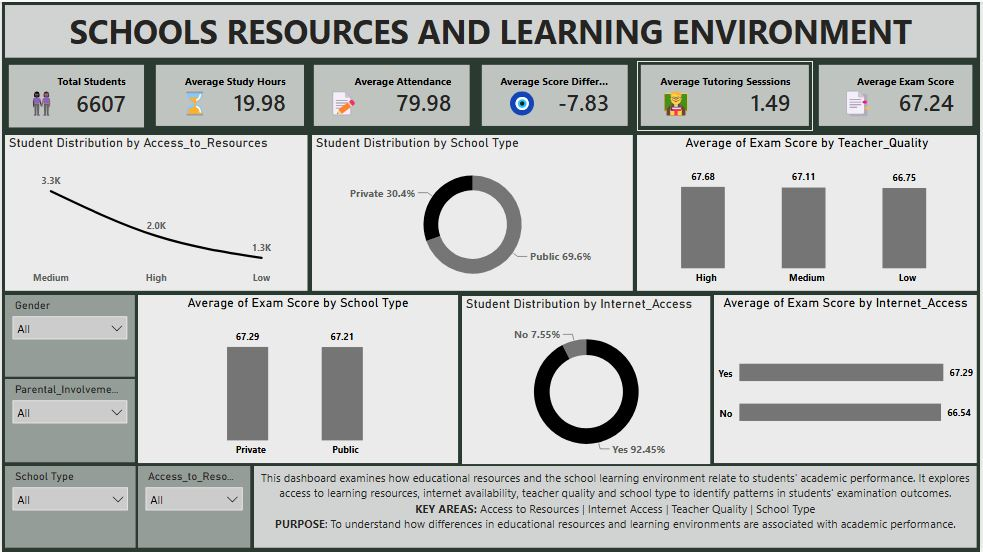

Layout of this report page (visuals, bound fields, positions):
{"tool":"powerbi","page":{"name":"School Resources and Learning Environment","canvas":[1280,720],"ordinal":2},"visuals":[{"type":"textbox","box":[4.3,4.3,1271.5,69.1],"z":0},{"type":"cardVisual","fields":{"Data":["Student's Performance Measure.Total Students"]},"box":[4.3,77.8,187.2,92.2],"z":1000},{"type":"cardVisual","fields":{"Data":["Student's Performance Measure.Average Study Hours"]},"box":[195.8,77.8,204.5,90.7],"z":2000},{"type":"cardVisual","fields":{"Data":["Student's Performance Measure.Average Attendance"]},"box":[403.2,77.8,214.6,90.7],"z":3000},{"type":"cardVisual","fields":{"Data":["Student's Performance Measure.Average Tutoring Sesssions"]},"box":[830.9,77.8,230.4,90.7],"z":4000},{"type":"cardVisual","fields":{"Data":["Student's Performance Measure.Average Exam Score"]},"box":[1064.2,77.8,211.7,90.7],"z":5000},{"type":"cardVisual","fields":{"Data":["Student's Performance Measure.Average Score Difference"]},"box":[623.5,77.8,201.6,90.7],"z":6000},{"type":"lineChart","title":"Student Distribution by Access_to_Resources","fields":{"Category":["Student Performance Factors.Access_to_Resources"],"Y":["Student's Performance Measure.Total Students"]},"box":[4.3,174.2,396,204.5],"z":7000},{"type":"donutChart","title":"Student Distribution by Internet_Access","fields":{"Category":["Student Performance Factors.Internet_Access"],"Y":["Student's Performance Measure.Total Students"]},"box":[601.9,384.5,325.4,220.3],"z":8000},{"type":"clusteredBarChart","fields":{"Category":["Student Performance Factors.Internet_Access"],"Y":["Avg(Student Performance Factors.Exam Score)"]},"box":[931.7,383,344.2,220.3],"z":9000},{"type":"clusteredColumnChart","fields":{"Y":["Avg(Student Performance Factors.Exam_Score)"],"Category":["Student Performance Factors.Teacher_Quality"]},"box":[830.9,174.2,445,204.5],"z":10000},{"type":"donutChart","title":"Student Distribution by School Type","fields":{"Category":["Student Performance Factors.School Type"],"Y":["Student's Performance Measure.Total Students"]},"box":[406.1,174.2,420.5,204.5],"z":11000},{"type":"clusteredColumnChart","fields":{"Category":["Student Performance Factors.School Type"],"Y":["Avg(Student Performance Factors.Exam_Score)"]},"box":[178.6,383,419,220.3],"z":12000},{"type":"slicer","fields":{"Values":["Student Performance Factors.Gender"]},"box":[4.3,383,169.9,106.6],"z":13000},{"type":"slicer","fields":{"Values":["Student Performance Factors.School_Type"]},"box":[4.3,607.7,171.4,106.6],"z":14000},{"type":"slicer","fields":{"Values":["Student Performance Factors.Parental_Involvement"]},"box":[4.3,493.9,169.9,109.4],"z":15000},{"type":"slicer","fields":{"Values":["Student Performance Factors.Access_to_Resources"]},"box":[178.6,607.7,146.9,106.6],"z":16000},{"type":"textbox","box":[329.8,607.7,946.1,106.6],"z":17000},{"type":"textbox","box":[1090.1,103.7,60.5,57.6],"z":18000},{"type":"textbox","box":[852.5,103.7,60.5,57.6],"z":19000},{"type":"textbox","box":[650.9,103.7,60.5,57.6],"z":20000},{"type":"textbox","box":[417.6,103.7,54.7,57.6],"z":21000},{"type":"textbox","box":[224.6,103.7,54.7,57.6],"z":22000},{"type":"textbox","box":[24.5,103.7,54.7,57.6],"z":23000}]}

Visuals, with their boxes in screenshot pixels (x1, y1, x2, y2), scaled from the page's 1280x720 canvas onto the 983x552 screenshot:
textbox: 3 3 980 56
cardVisual - Student's Performance Measure.Total Students: 3 60 147 130
cardVisual - Student's Performance Measure.Average Study Hours: 150 60 307 129
cardVisual - Student's Performance Measure.Average Attendance: 310 60 474 129
cardVisual - Student's Performance Measure.Average Tutoring Sesssions: 638 60 815 129
cardVisual - Student's Performance Measure.Average Exam Score: 817 60 980 129
cardVisual - Student's Performance Measure.Average Score Difference: 479 60 634 129
"Student Distribution by Access_to_Resources" lineChart: 3 134 307 290
"Student Distribution by Internet_Access" donutChart: 462 295 712 464
clusteredBarChart - Student Performance Factors.Internet_Access x Avg(Student Performance Factors.Exam Score): 716 294 980 463
clusteredColumnChart - Avg(Student Performance Factors.Exam_Score) x Student Performance Factors.Teacher_Quality: 638 134 980 290
"Student Distribution by School Type" donutChart: 312 134 635 290
clusteredColumnChart - Student Performance Factors.School Type x Avg(Student Performance Factors.Exam_Score): 137 294 459 463
slicer - Student Performance Factors.Gender: 3 294 134 375
slicer - Student Performance Factors.School_Type: 3 466 135 548
slicer - Student Performance Factors.Parental_Involvement: 3 379 134 463
slicer - Student Performance Factors.Access_to_Resources: 137 466 250 548
textbox: 253 466 980 548
textbox: 837 80 884 124
textbox: 655 80 701 124
textbox: 500 80 546 124
textbox: 321 80 363 124
textbox: 172 80 214 124
textbox: 19 80 61 124
